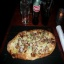pizza: (5, 27, 59, 59)
